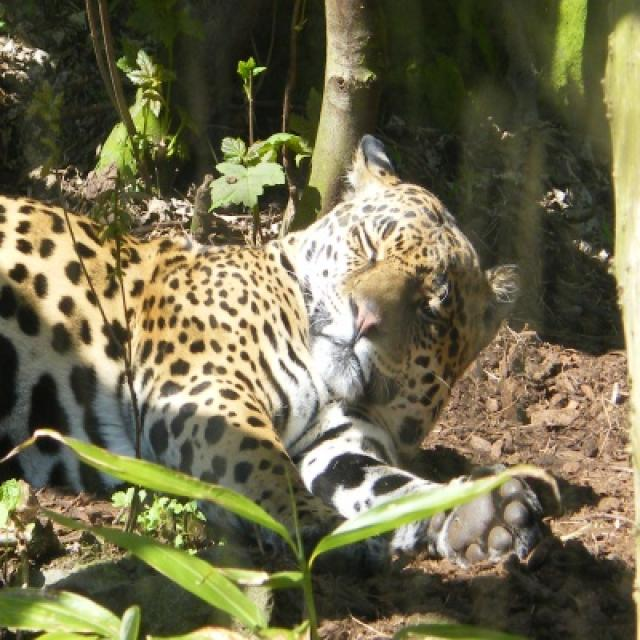Jaguar: (0, 136, 562, 563)
